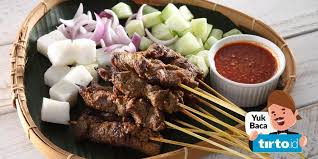sate: (32, 5, 237, 153)
